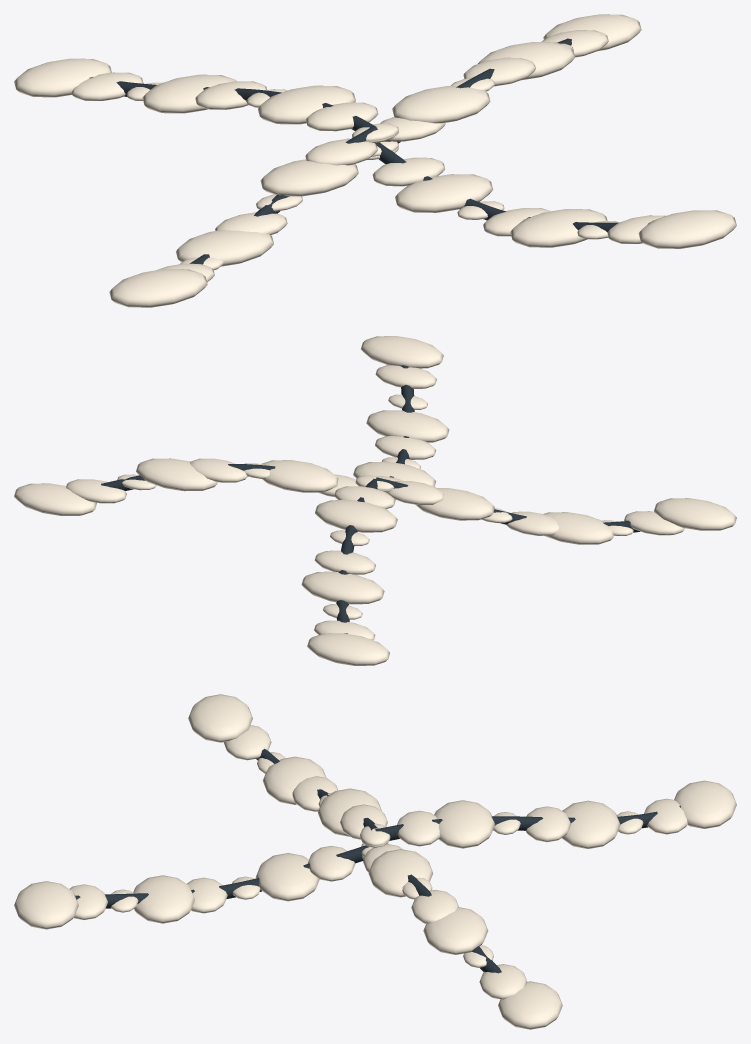
The model's file is knot.glb.
3 views of the same model, one above another, from view 1: azimuth 30°, elevation 25°; view 2: azimuth 150°, elevation 25°; view 3: azimuth 270°, elevation 25° (orthographic). The views are drawn at different scales.
Parts seen in each view (by area): view 1: knot_textured_mesh; view 2: knot_textured_mesh; view 3: knot_textured_mesh.
Part boxes in pixels (left/top/right/bottom): knot_textured_mesh: left=14, top=14, right=736, bottom=307; knot_textured_mesh: left=14, top=336, right=736, bottom=665; knot_textured_mesh: left=14, top=694, right=736, bottom=1029.
Size of the model in its own units: 5.87 by 0.4769 by 5.57.
Materials: 1 (1 with a texture image).
